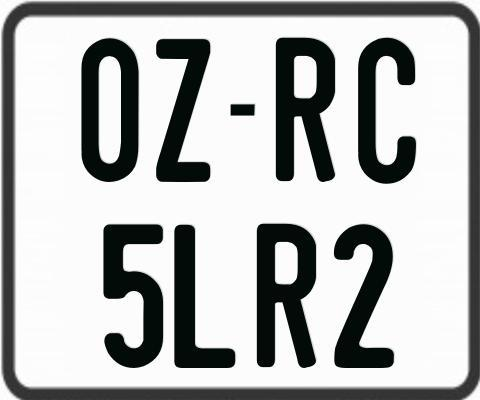0: (78, 37, 136, 182)
2: (331, 224, 392, 374)
5: (102, 222, 165, 372)
C: (357, 35, 417, 186)
L: (171, 223, 236, 366)
R: (256, 223, 318, 369), (276, 38, 335, 183)
Z: (154, 38, 214, 183)
